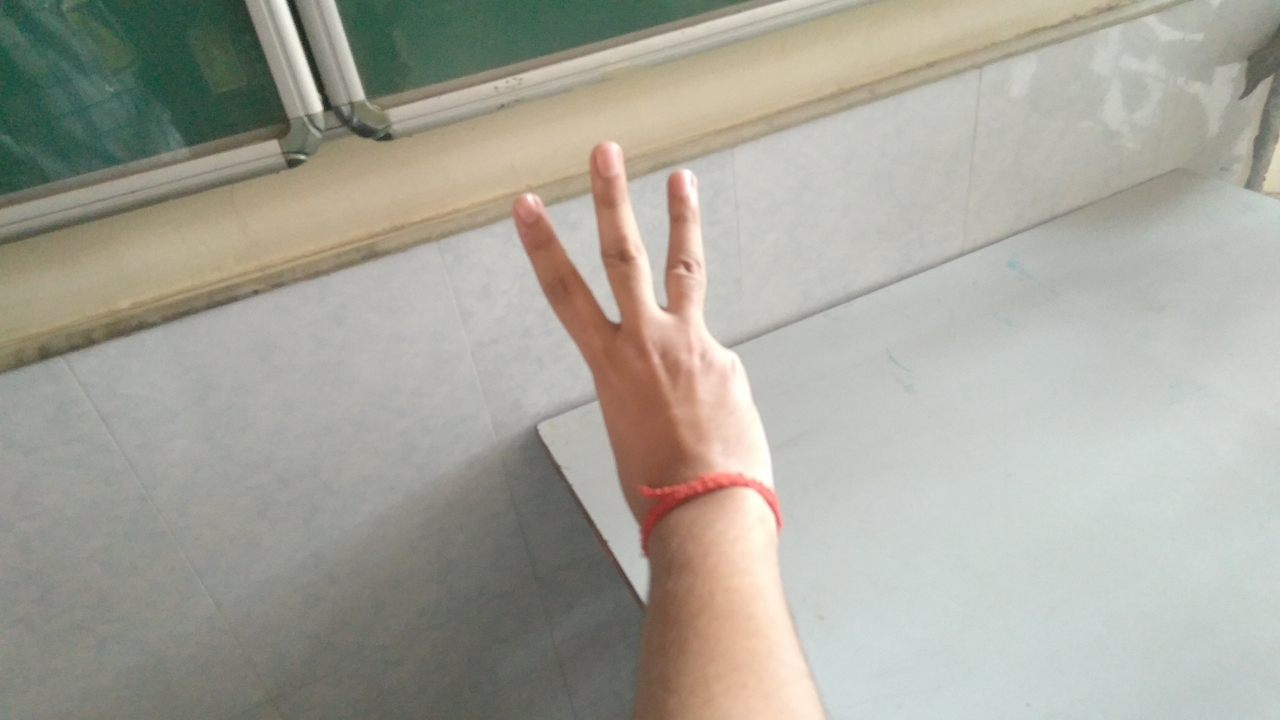fingertip: (500, 174, 556, 228), (582, 126, 636, 176), (658, 158, 710, 202)
